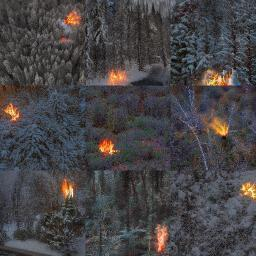Small fire: (154, 217, 174, 256), (201, 68, 238, 89), (209, 117, 233, 139), (236, 179, 256, 200), (95, 138, 119, 154), (106, 71, 128, 88), (58, 179, 80, 196), (2, 105, 22, 123), (62, 7, 81, 25)
